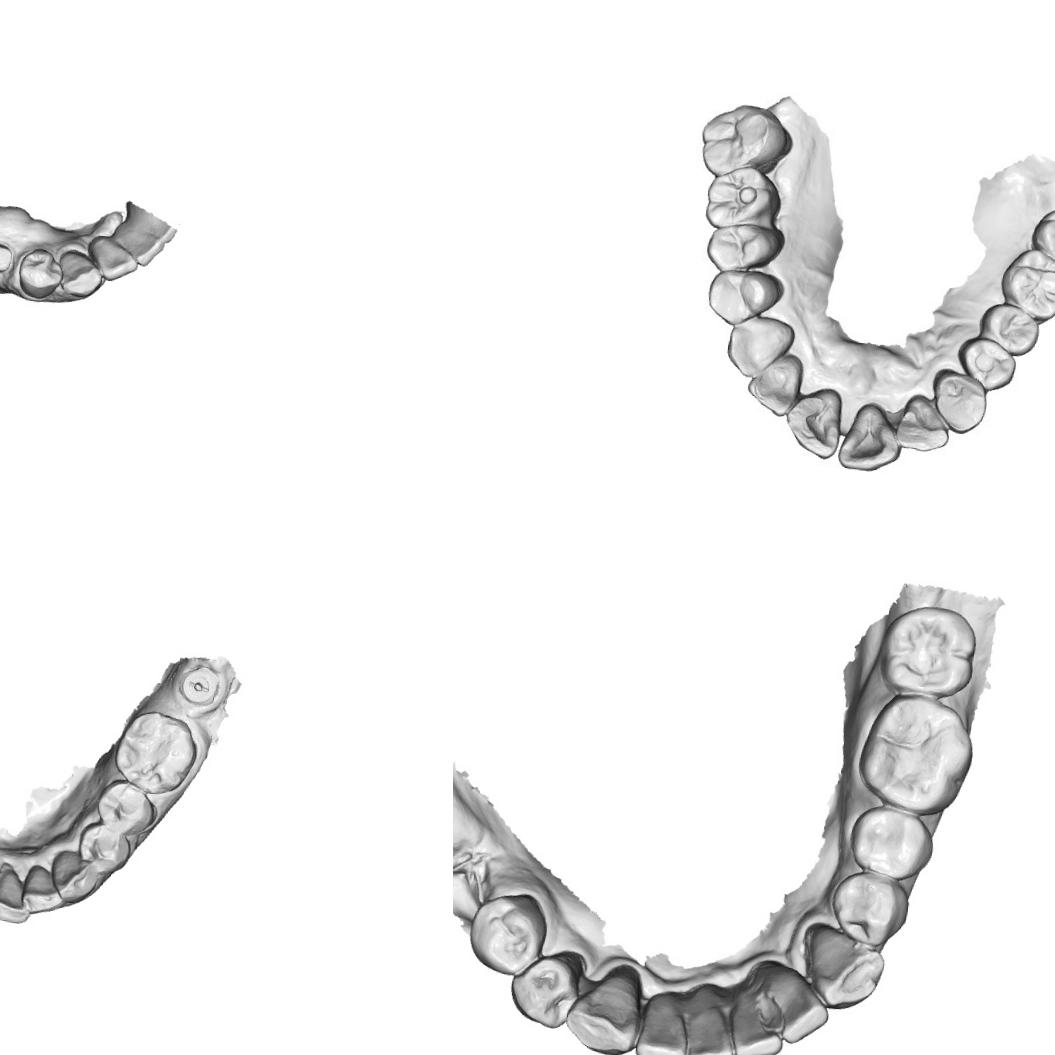abutment: (0, 237, 15, 275)
canine: (561, 961, 651, 1055), (801, 922, 887, 1014), (719, 313, 803, 382), (927, 367, 991, 437), (47, 842, 102, 905), (55, 248, 106, 300)
implant: (177, 660, 227, 713)
incisor: (762, 970, 833, 1050), (834, 402, 903, 477), (889, 387, 953, 458), (784, 386, 844, 461), (743, 350, 806, 420), (632, 998, 695, 1055), (729, 996, 787, 1055), (681, 1003, 740, 1055), (84, 234, 142, 285), (118, 200, 180, 246), (20, 860, 64, 922), (107, 225, 167, 269), (0, 865, 35, 929)
molar: (852, 690, 980, 819), (877, 600, 978, 704), (694, 98, 797, 180), (112, 706, 200, 797), (704, 165, 790, 232), (996, 245, 1055, 325), (1027, 203, 1055, 271)
premolar: (463, 889, 552, 980), (844, 802, 939, 884), (827, 868, 913, 950), (505, 951, 584, 1034), (705, 266, 786, 330), (704, 218, 788, 277), (950, 332, 1018, 395), (976, 302, 1042, 358), (98, 776, 156, 831), (81, 820, 136, 872), (15, 246, 66, 302)
